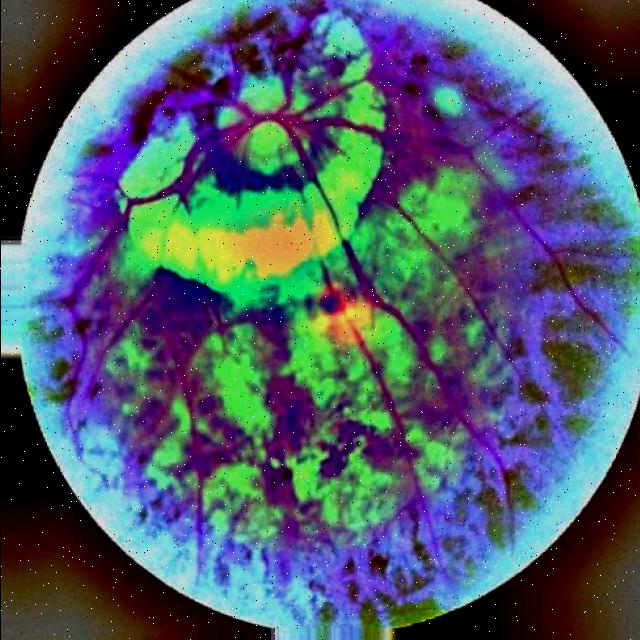Optic Disk: (127, 173, 338, 300)
